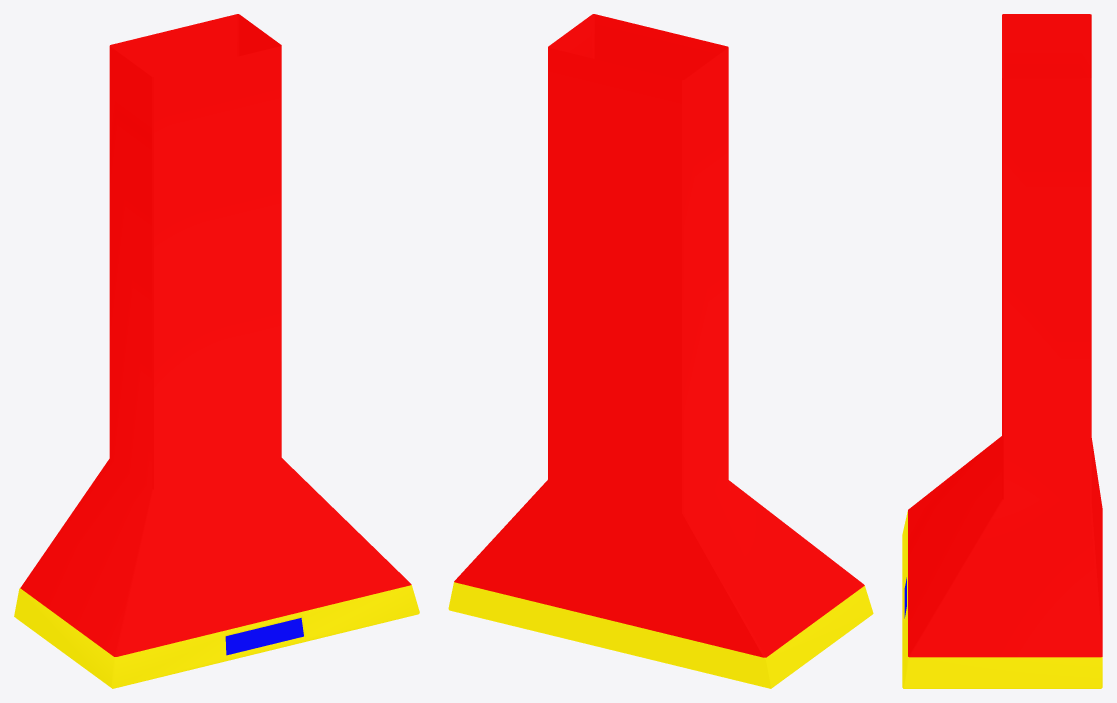
The model's file is Abzug.fbx.
The picture shows the model from 3 angles, left to right: view 1: azimuth 30°, elevation 25°; view 2: azimuth 150°, elevation 25°; view 3: azimuth 270°, elevation 25°; orthographic projection. The views are drawn at different scales.
Parts seen in each view (by area): view 1: Abzug; view 2: Abzug; view 3: Abzug.
Part boxes in pixels (x1,y1,x2,y2): Abzug: (14,14,419,688); Abzug: (448,14,873,688); Abzug: (902,14,1102,688).
Size of the model in its own units: 70.95 by 122 by 39.15.
